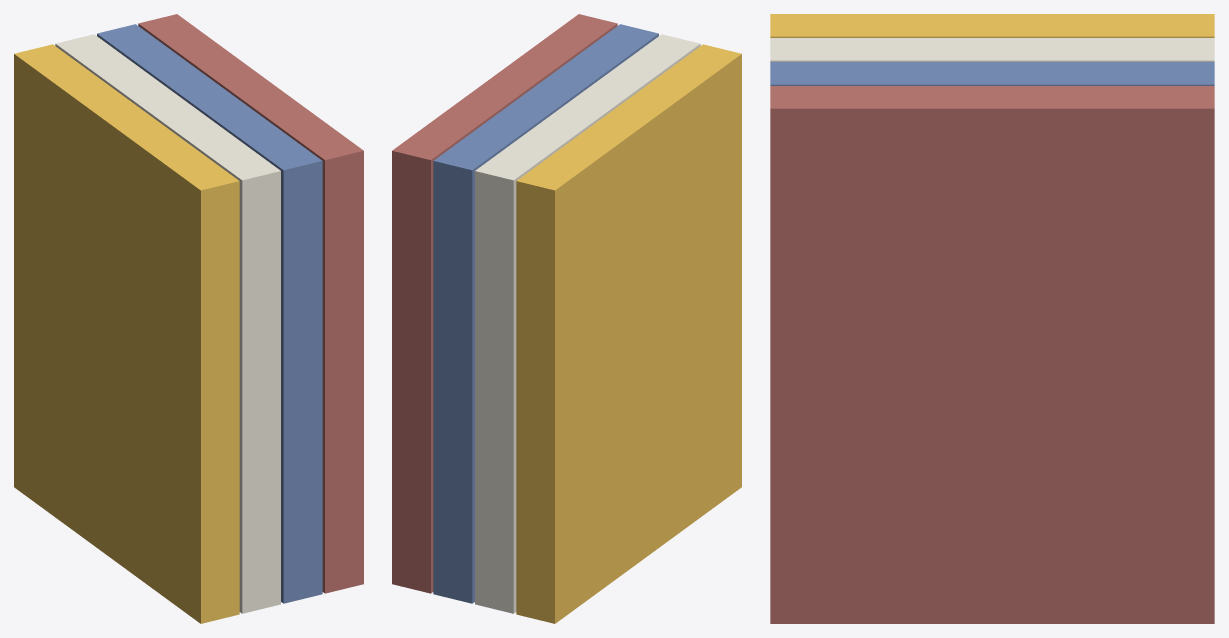
Rendered from folders.glb.
3 renders of one model, left to right at view 1: azimuth 30°, elevation 25°; view 2: azimuth 150°, elevation 25°; view 3: azimuth 270°, elevation 25°, orthographic. The views are drawn at different scales.
Parts seen in each view (by area): view 1: folders; view 2: folders; view 3: folders.
Part boxes in pixels (x1,y1,x2,y2): folders: (14,14,363,623); folders: (392,14,741,623); folders: (770,14,1214,623).
Size of the model in its own units: 0.126 by 0.32 by 0.25.
